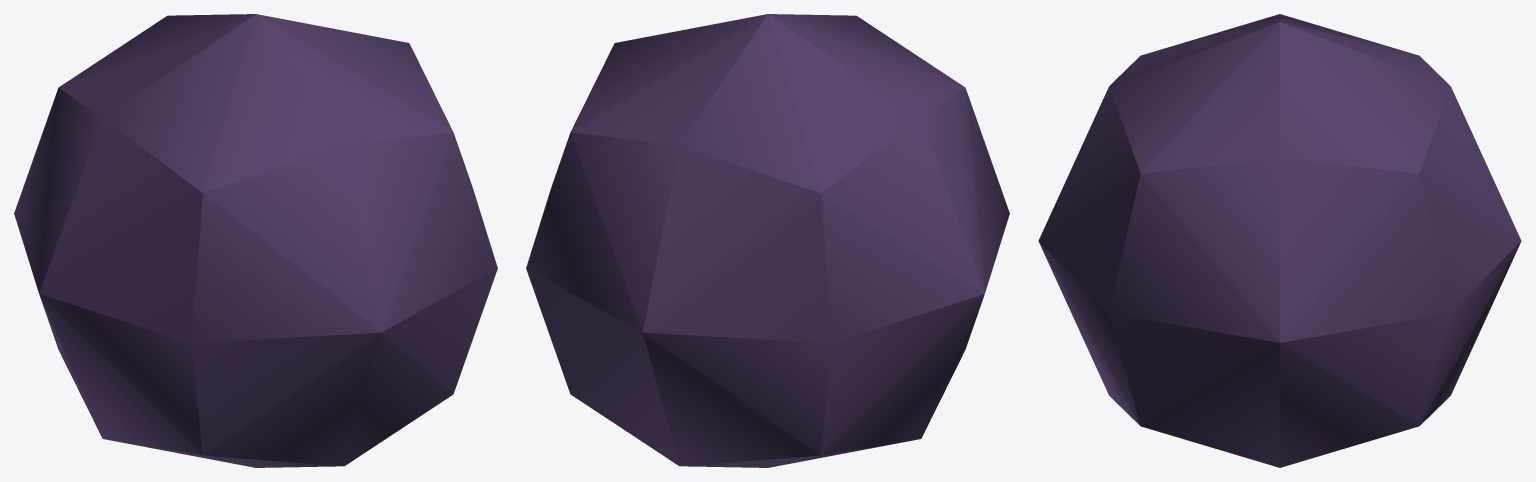
The picture shows the model from 3 angles, left to right: view 1: azimuth 30°, elevation 25°; view 2: azimuth 150°, elevation 25°; view 3: azimuth 270°, elevation 25°; orthographic projection. The views are drawn at different scales.
Parts seen in each view (by area): view 1: SketchUp; view 2: SketchUp; view 3: SketchUp.
Boxes of the visible parts, left/top/right/bottom form: SketchUp: left=14, top=14, right=497, bottom=467; SketchUp: left=526, top=14, right=1009, bottom=467; SketchUp: left=1038, top=14, right=1521, bottom=467.
Bounding box in the file's own units: 78.74 × 78.74 × 78.74.
